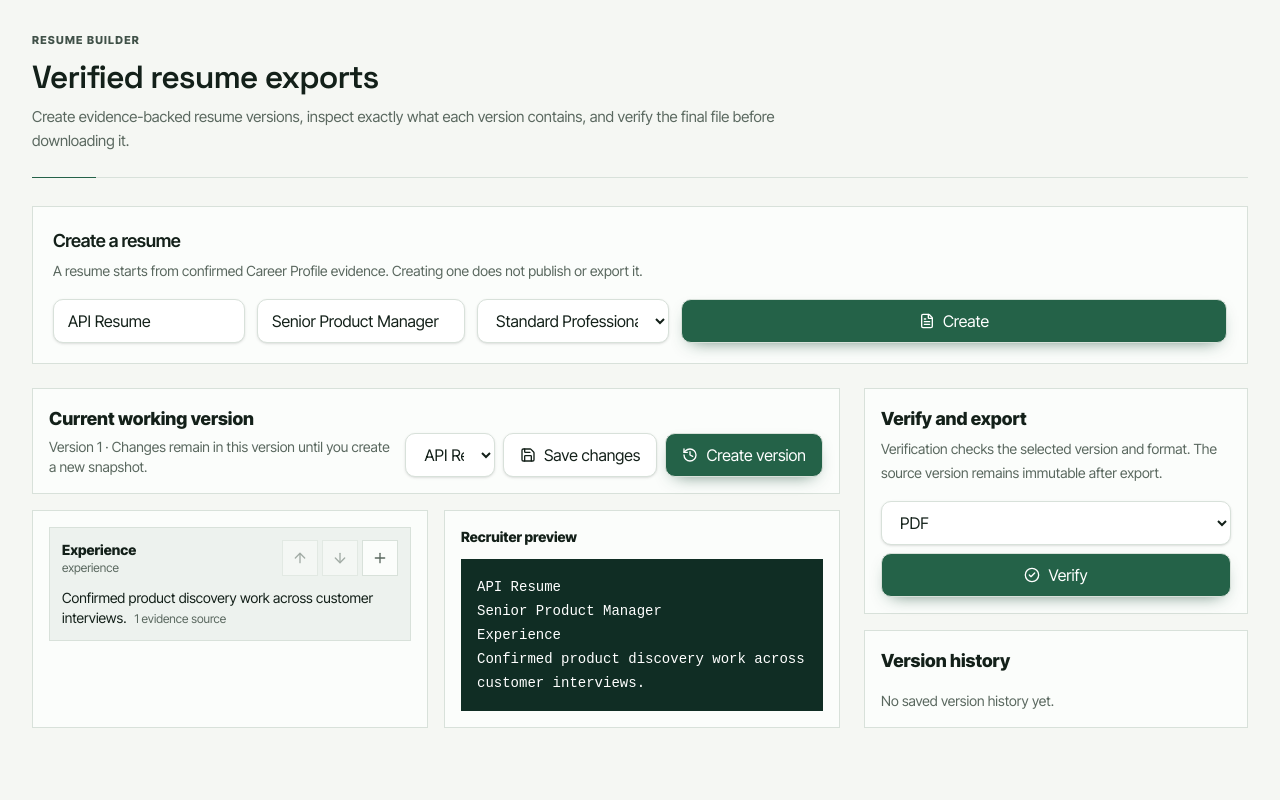
Scenario: Resume Builder view › exports a verified resume and creates a download intent
Expected: the heading "Recruiter preview" is shown, [461,528,577,544]
What coordinates should you click on to do the following:
click the button "Verify"
I would click on:
 (1056, 574)
Its box is [881,552,1231,596].
(page scrolled)
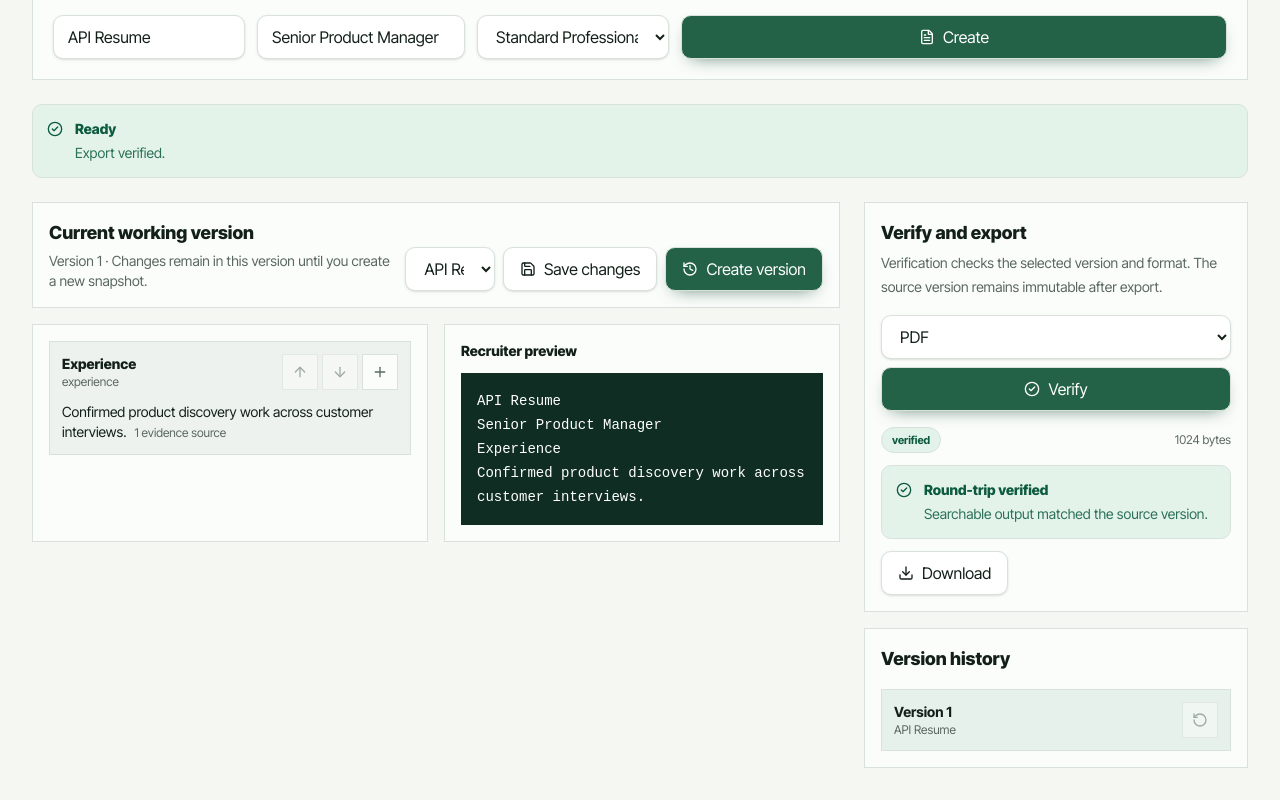
Expected: the text "Round-trip verified" is shown, [924,480,1048,498]
What coordinates should you click on to do the following:
click the button "Download"
I would click on:
 (945, 572)
Its box is [881,550,1008,594].
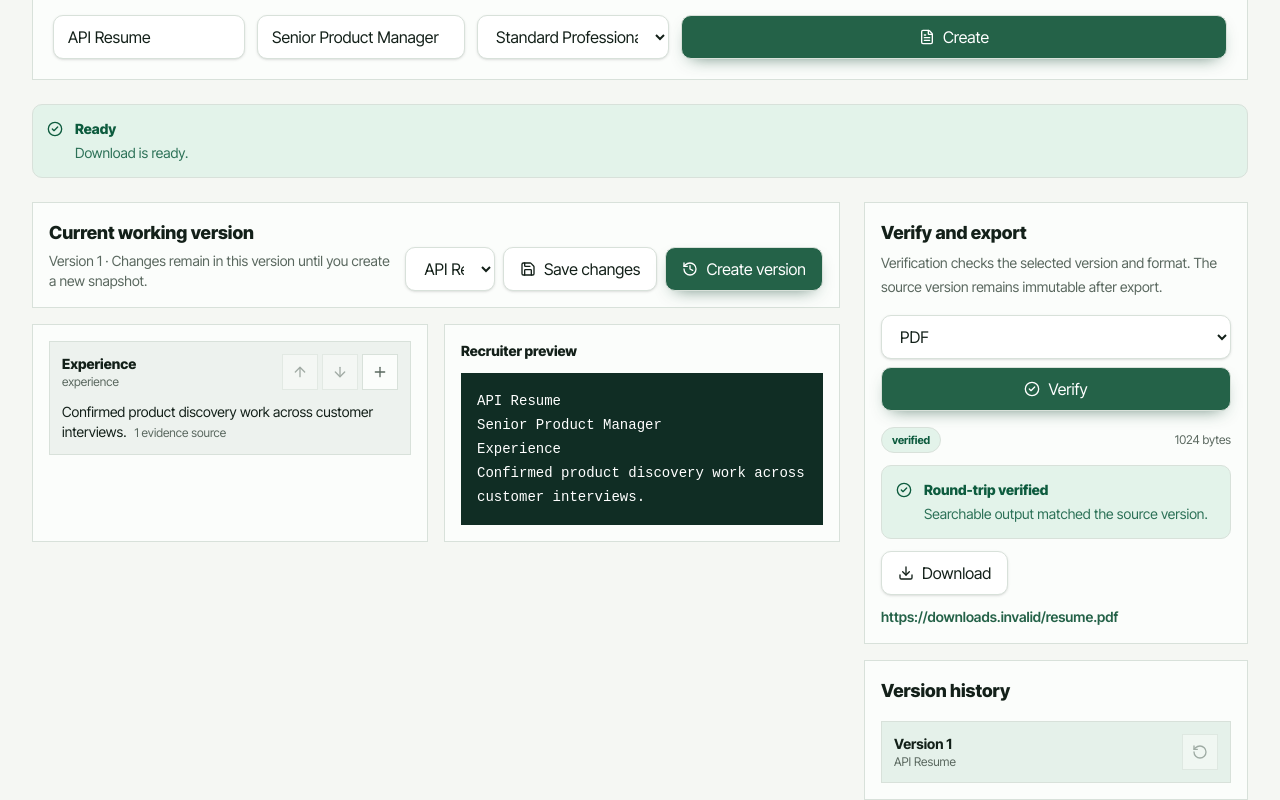
Expected: the link "https://downloads.invalid/resume.pdf" is shown, [881,608,1118,624]
